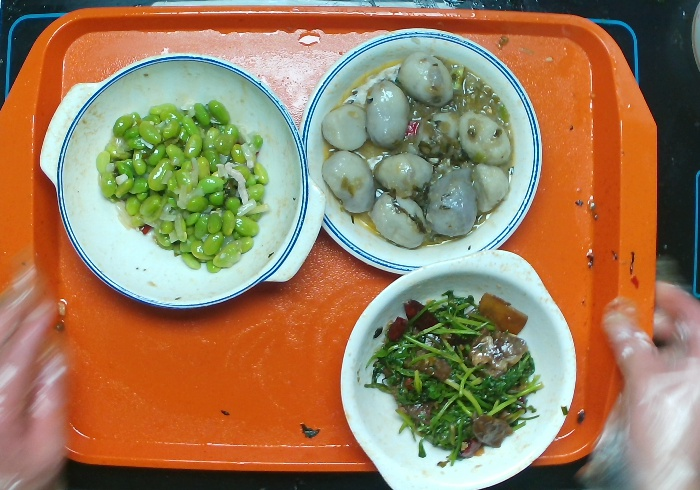HZYJPL-Dai_Er_Bai_Yuan_Wan: (335, 244, 580, 490)
HZYJPL-Lan_Bian_Dai_Er_Wan: (32, 43, 330, 312)
HZYJPL-Lan_Bian_Yuan_Die: (294, 24, 550, 276)
